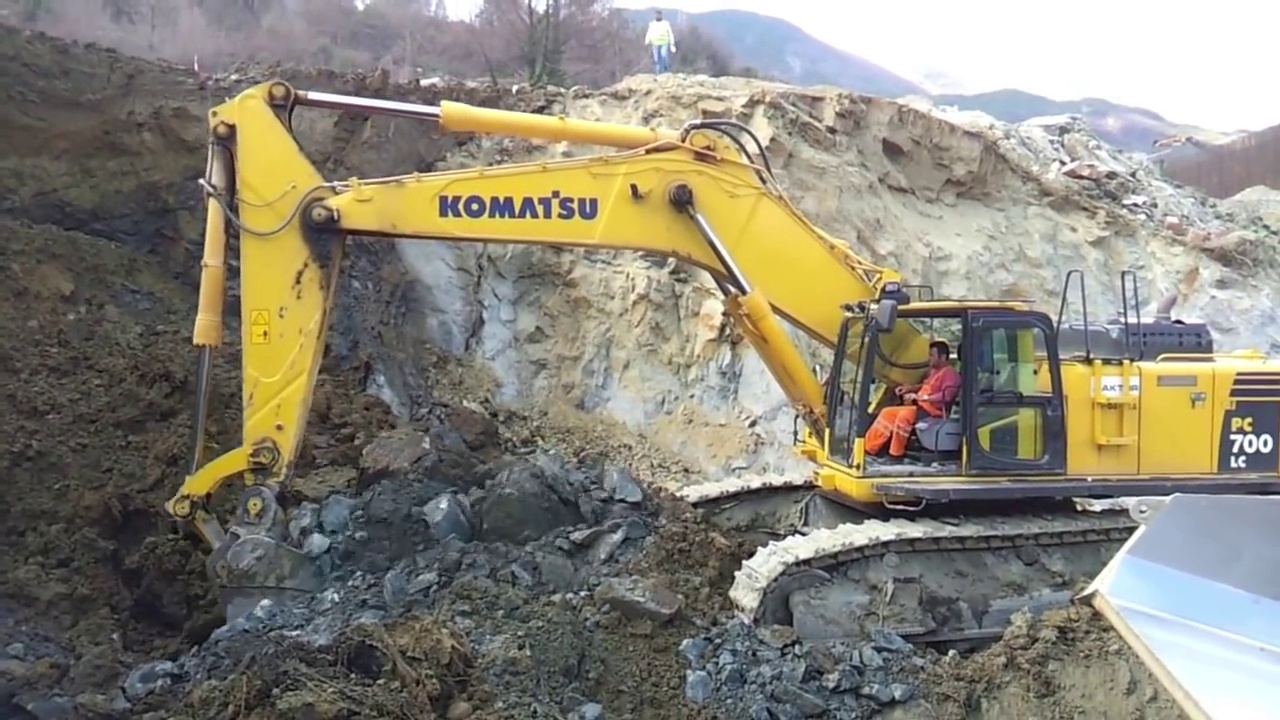excavator: (165, 80, 1277, 644)
person: (866, 343, 960, 458), (644, 10, 677, 74)
